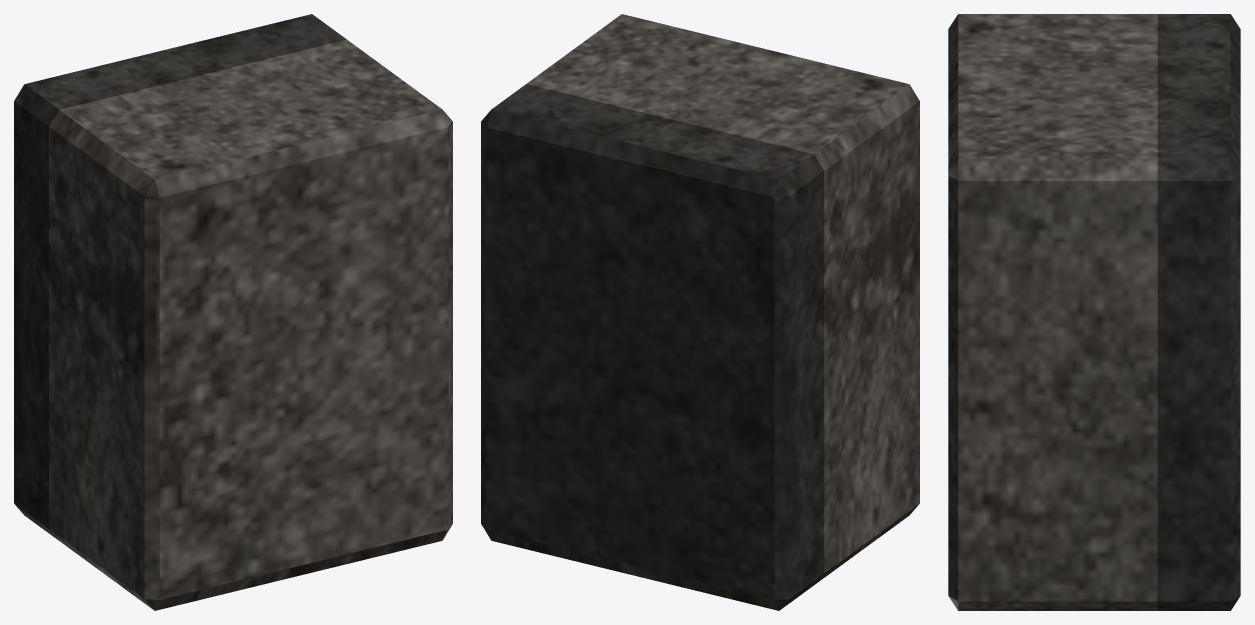
Rendered from Stone.gltf.
3 renders of one model, left to right at view 1: azimuth 30°, elevation 25°; view 2: azimuth 150°, elevation 25°; view 3: azimuth 270°, elevation 25°, orthographic. The views are drawn at different scales.
Parts seen in each view (by area): view 1: Cube; view 2: Cube; view 3: Cube.
Boxes of the visible parts, x1,y1,x2,y2 form: Cube: (14, 14, 452, 610); Cube: (481, 14, 919, 610); Cube: (948, 14, 1240, 610).
Bounding box in the file's own units: 1.95 × 2.6 × 1.53.
3 materials, 3 textured.
